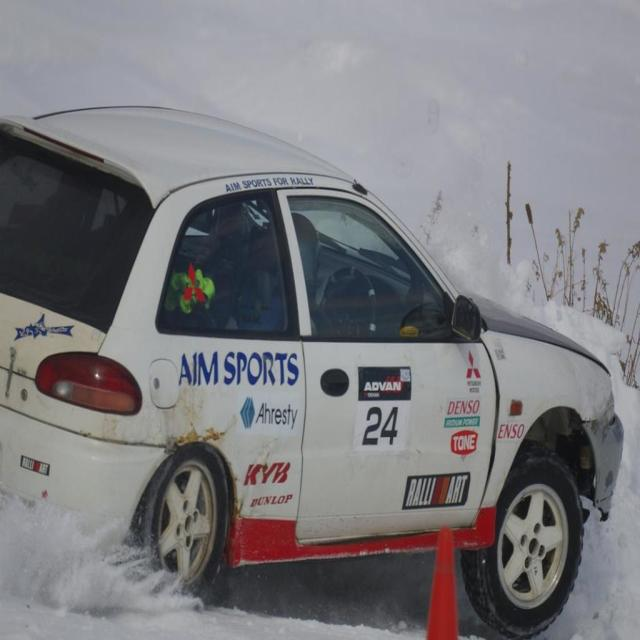car: (0, 101, 620, 631)
